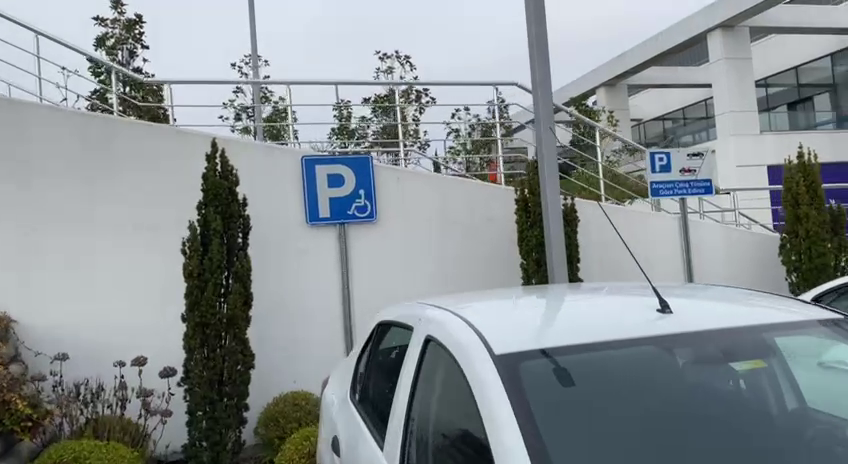parking: (300, 153, 378, 226), (649, 150, 674, 175)
